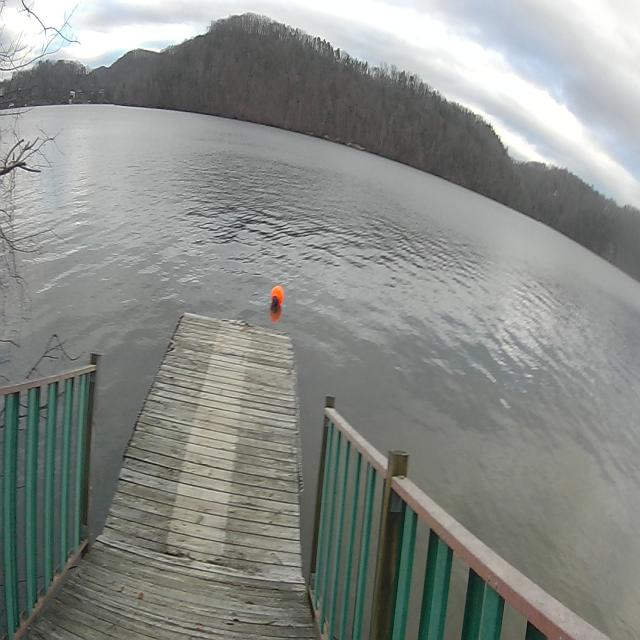Buoy: (264, 278, 287, 325)
